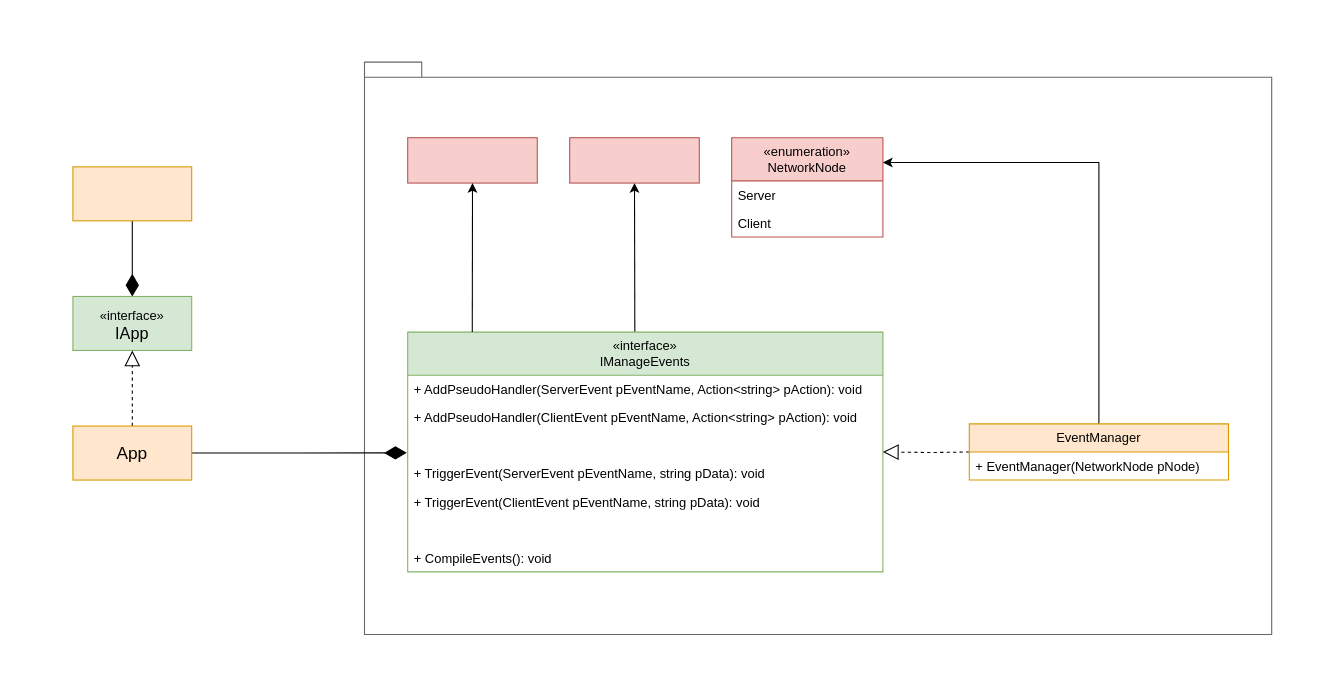
The diagram is 1333 pixels wide and 696 high, and some of its shapes have lost their labels. The shapes that lost their labels are listed below. From the top down, each one's centre as x and y in pixels, then its label:
point (472, 160): «enumeration» ClientEvents
point (634, 160): «enumeration» ServerEvents
point (132, 193): Main
